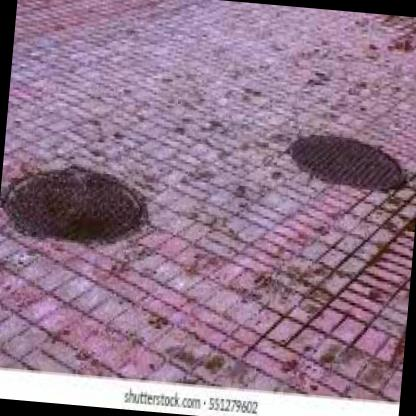manholes: (0, 146, 171, 281), (273, 110, 416, 217)
